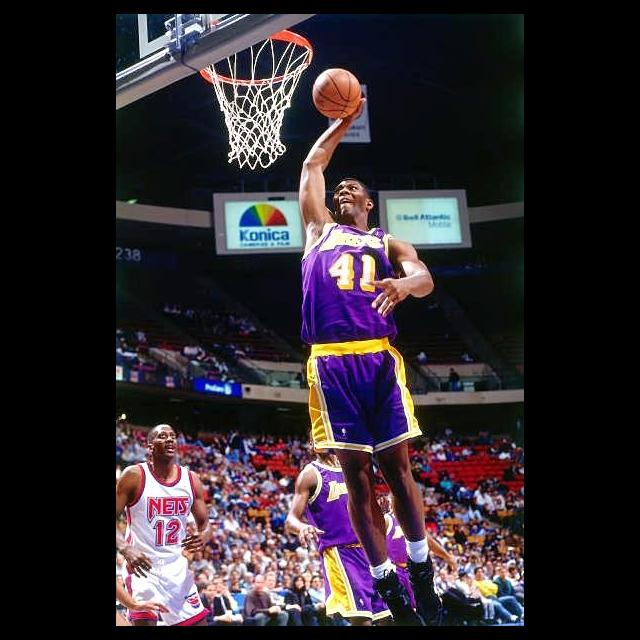basketball: (312, 68, 362, 121)
hoop: (202, 22, 313, 172)
